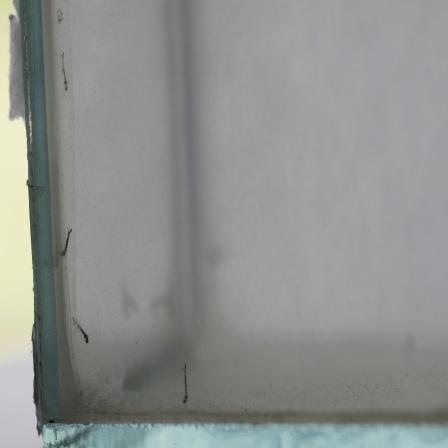Jentik-Nyamuk: (177, 360, 192, 408), (57, 49, 72, 94), (71, 317, 93, 347), (58, 223, 75, 261)
